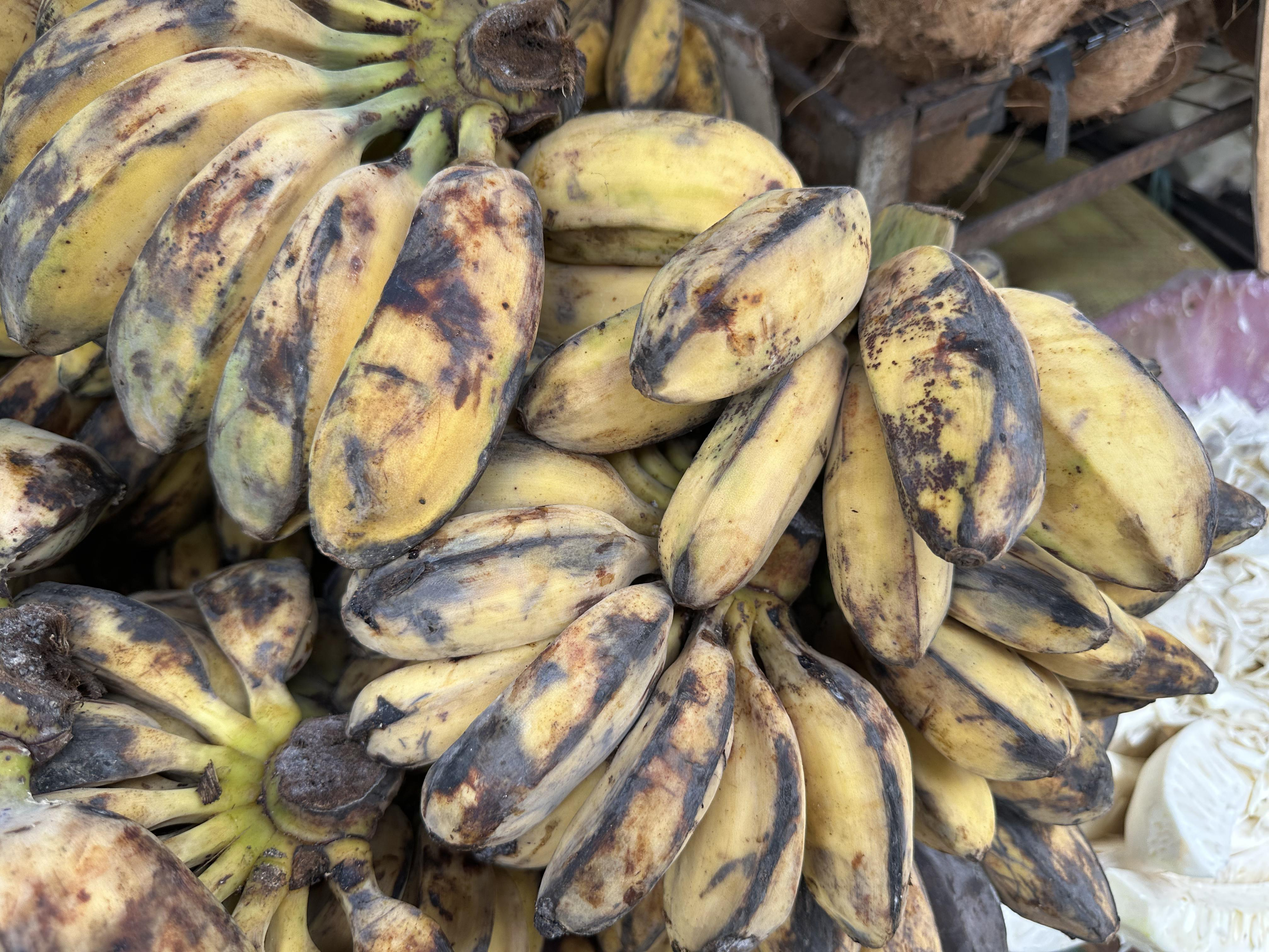ripe: (520, 110, 1224, 664), (342, 428, 912, 952), (871, 536, 1217, 861), (862, 802, 1119, 952)
underripe: (2, 0, 546, 569)
